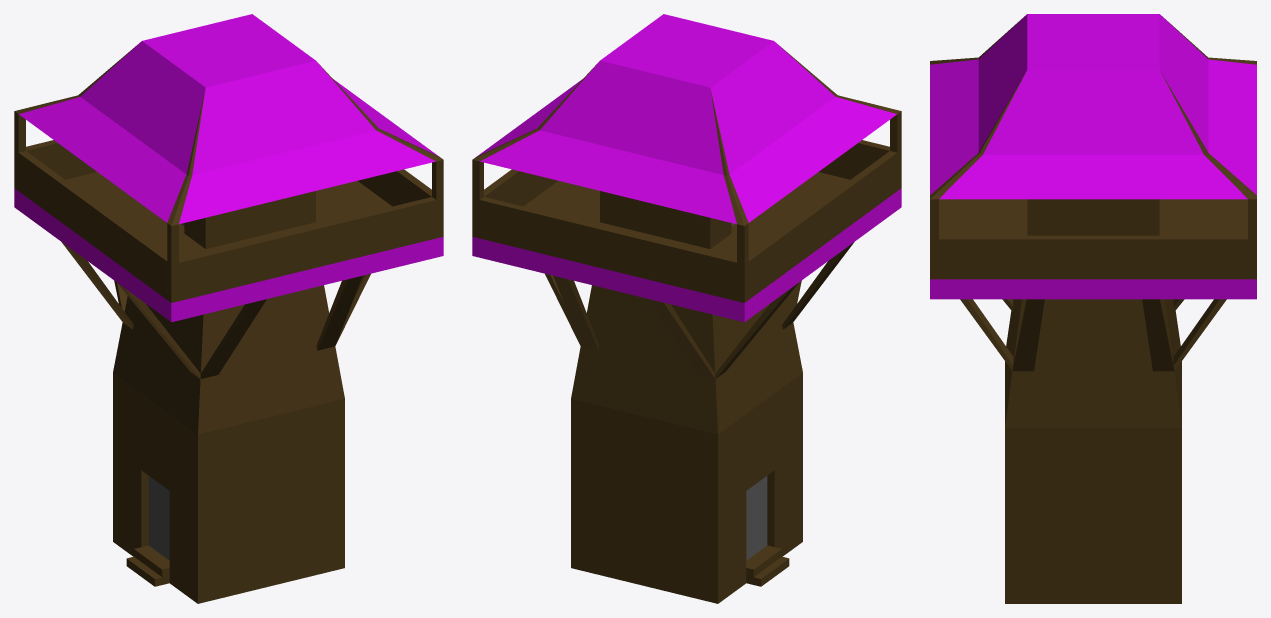
File: WoodenDefenseTower.fbx
3 renders of one model, left to right at view 1: azimuth 30°, elevation 25°; view 2: azimuth 150°, elevation 25°; view 3: azimuth 270°, elevation 25°, orthographic. The views are drawn at different scales.
Parts seen in each view (by area): view 1: Cube; view 2: Cube; view 3: Cube.
Boxes of the visible parts, bbox=[...] form: Cube: bbox=[14, 14, 443, 603]; Cube: bbox=[472, 14, 901, 603]; Cube: bbox=[930, 14, 1256, 603].
Size of the model in its own units: 370 by 655 by 370.
